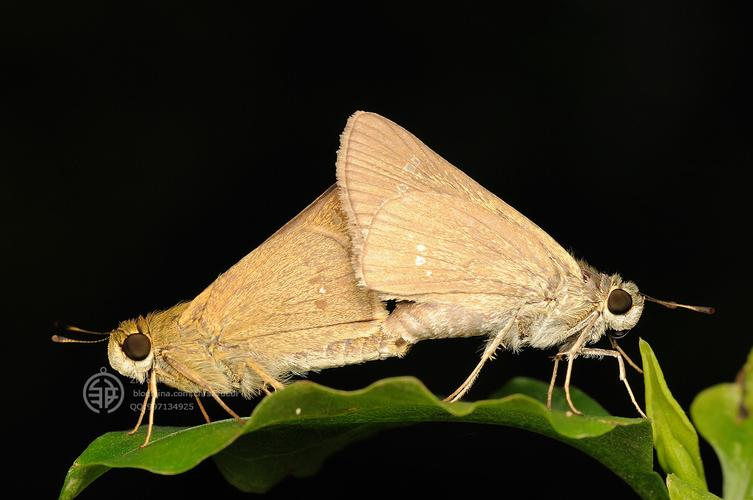Hesperiidae: (336, 102, 705, 411), (43, 161, 370, 428)
